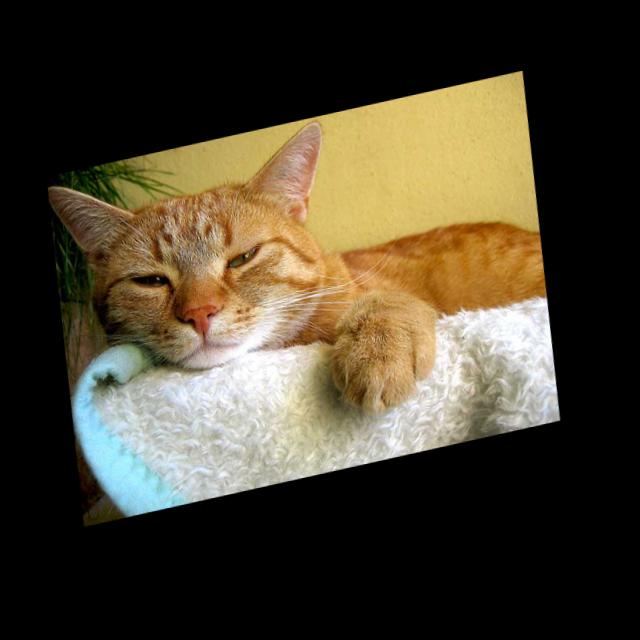animals: (44, 126, 346, 364)
